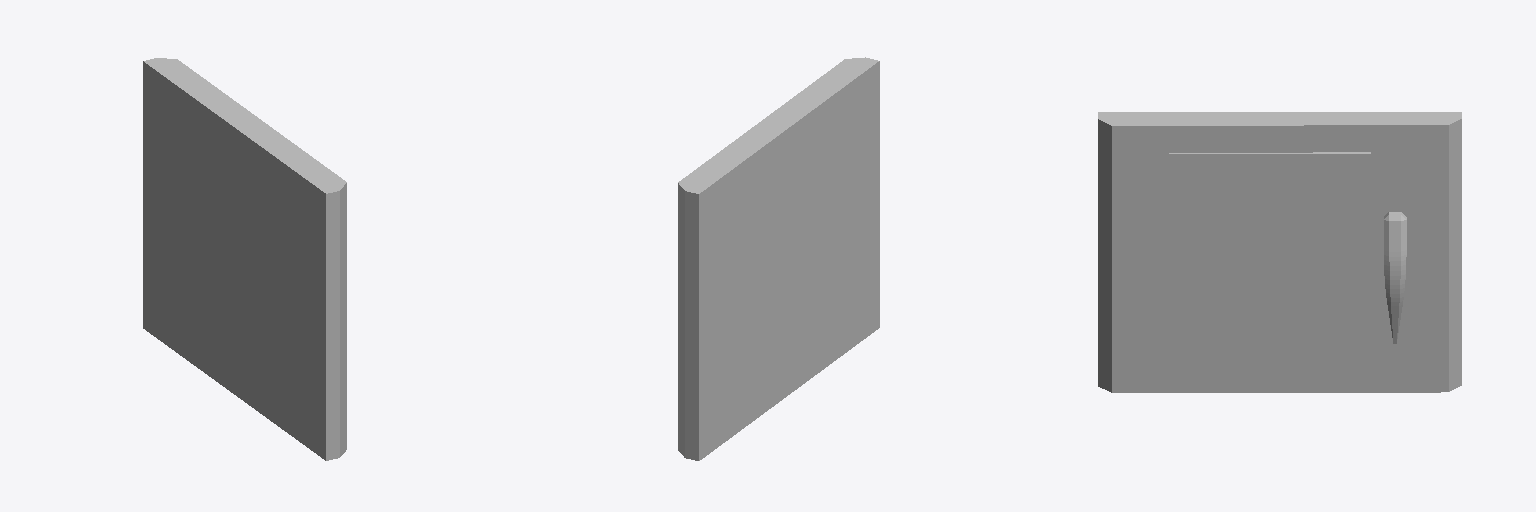
File: puertaRefriArriba.obj
3 renders of one model, left to right at view 1: azimuth 30°, elevation 25°; view 2: azimuth 150°, elevation 25°; view 3: azimuth 270°, elevation 25°, orthographic.
Parts seen in each view (by area): view 1: puertaRefriArriba:pCube10; view 2: puertaRefriArriba:pCube10; view 3: puertaRefriArriba:pCube10.
Part boxes in pixels (bbox=[...]): puertaRefriArriba:pCube10: bbox=[143, 58, 346, 460]; puertaRefriArriba:pCube10: bbox=[678, 57, 879, 460]; puertaRefriArriba:pCube10: bbox=[1098, 112, 1461, 392].
Size of the model in its own units: 0.33 by 1.92 by 2.37.